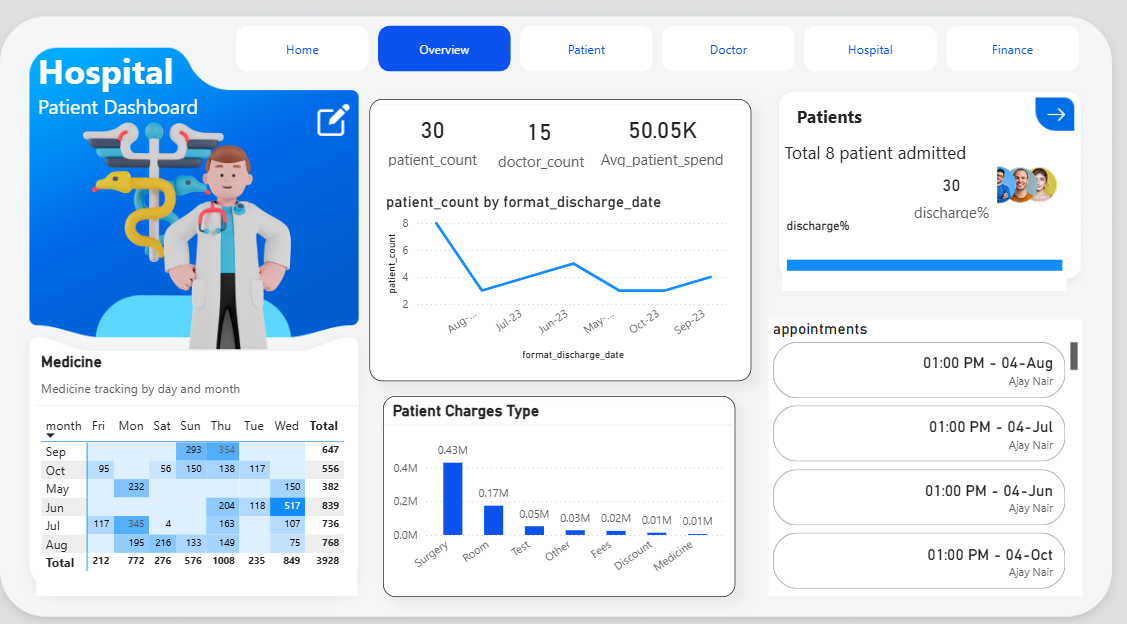

The dashboard page shown, as its layout file describes it:
{"tool":"powerbi","page":{"name":"Overview","canvas":[1280,720],"ordinal":1},"visuals":[{"type":"image","box":[371.7,120,51.7,45],"z":0},{"type":"actionButton","box":[0,0,99.2,40.7],"z":1000},{"type":"textbox","box":[74,58,348,250],"z":2000},{"type":"clusteredColumnChart","title":"Patient Charges Type","fields":{"Category":["bills.Charge_Type"],"Y":["Sum(bills.Value)"]},"box":[452,442,382,218],"z":3000},{"type":"image","box":[92,120,300,276],"z":4000},{"type":"pivotTable","title":"Medicine ","fields":{"Values":["Sum(medicine_patient.qty)"],"Columns":["calender.Day"],"Rows":["calender.month"]},"box":[76,396,348,264],"z":5000},{"type":"advancedSlicerVisual","fields":{"Values":["appointments.appointment_date_time"]},"box":[870,360,340,300],"z":6000},{"type":"shape","box":[438,120,414,306],"z":7000},{"type":"lineChart","fields":{"Y":["_Measure.patient_count"],"Category":["patient_info.format_discharge_date"]},"box":[450,221.4,381.4,187.1],"z":8000},{"type":"card","fields":{"Values":["Count(appointments.patient_id)"]},"box":[450,128.6,110,70],"z":9000},{"type":"card","fields":{"Values":["Count(appointments.doctor_id)"]},"box":[565.7,128.6,110,74.3],"z":10000},{"type":"card","fields":{"Values":["Avg(Patient_spend_amt.Patient_spend_amt)"]},"box":[677.1,128.6,155.7,70],"z":11000},{"type":"pageNavigator","box":[292,40,918,50],"z":12000},{"type":"shape","box":[870,116,132,48],"z":13000},{"type":"shape","box":[870,154,232,48],"z":14000},{"type":"card","fields":{"Values":["_Measure.discharge%"]},"box":[1018,192,100,66],"z":15000},{"type":"hundredPercentStackedBarChart","fields":{"Y":["_Measure.discharge%"]},"box":[885.6,250,308.9,77.8],"z":16000}]}

Visuals, with their boxes in screenshot pixels (x1, y1, x2, y2), scaled from the page's 1280x720 canvas onto the 1127x624 screenshot:
image: (x1=327, y1=104, x2=373, y2=143)
actionButton: (x1=0, y1=0, x2=87, y2=35)
textbox: (x1=65, y1=50, x2=372, y2=267)
"Patient Charges Type" clusteredColumnChart: (x1=398, y1=383, x2=734, y2=572)
image: (x1=81, y1=104, x2=345, y2=343)
"Medicine " pivotTable: (x1=67, y1=343, x2=373, y2=572)
advancedSlicerVisual - appointments.appointment_date_time: (x1=766, y1=312, x2=1065, y2=572)
shape: (x1=386, y1=104, x2=750, y2=369)
lineChart - _Measure.patient_count x patient_info.format_discharge_date: (x1=396, y1=192, x2=732, y2=354)
card - Count(appointments.patient_id): (x1=396, y1=111, x2=493, y2=172)
card - Count(appointments.doctor_id): (x1=498, y1=111, x2=595, y2=176)
card - Avg(Patient_spend_amt.Patient_spend_amt): (x1=596, y1=111, x2=733, y2=172)
pageNavigator: (x1=257, y1=35, x2=1065, y2=78)
shape: (x1=766, y1=101, x2=882, y2=142)
shape: (x1=766, y1=133, x2=970, y2=175)
card - _Measure.discharge%: (x1=896, y1=166, x2=984, y2=224)
hundredPercentStackedBarChart - _Measure.discharge%: (x1=780, y1=217, x2=1052, y2=284)
